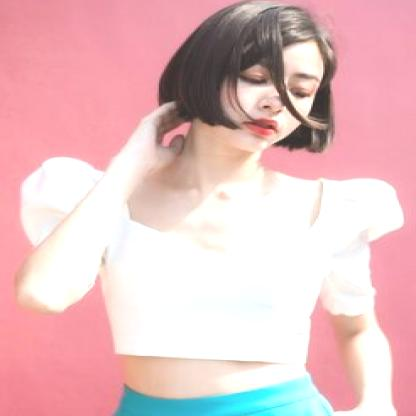jacket: (22, 146, 401, 375)
